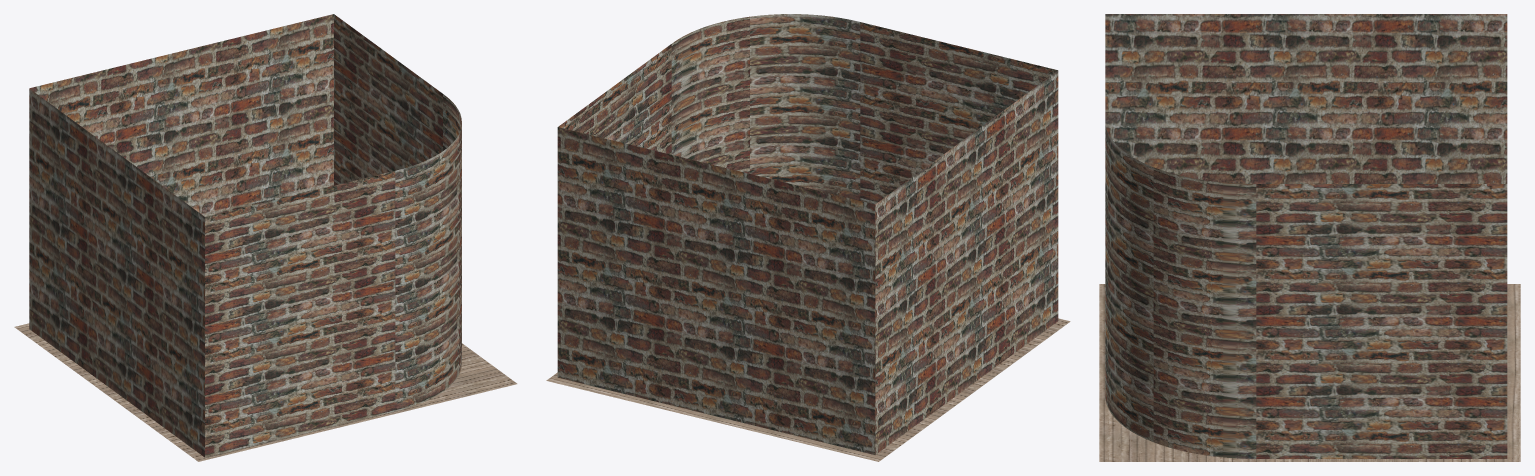
The model's file is forge1.2.FBX.
3 views of the same model, side by side, from view 1: azimuth 30°, elevation 25°; view 2: azimuth 150°, elevation 25°; view 3: azimuth 270°, elevation 25° (orthographic). The views are drawn at different scales.
Parts seen in each view (by area): view 1: Walls, Floor; view 2: Walls, Floor; view 3: Walls, Floor.
Boxes of the visible parts, x1,y1,x2,y2 form: Walls: (29,14,461,457); Floor: (14,323,517,461); Walls: (557,14,1058,454); Floor: (546,318,1070,461); Walls: (1105,14,1507,458); Floor: (1099,284,1520,461).
Size of the model in its own units: 150 by 108 by 150.
2 materials, 2 textured.
